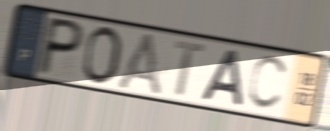A: (112, 31, 165, 99), (197, 48, 245, 109)
C: (245, 55, 291, 113)
O: (79, 24, 123, 87)
P: (33, 15, 88, 78)
T: (173, 40, 207, 99)
